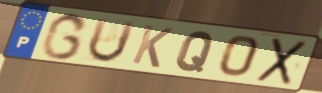0: (215, 34, 262, 79)
G: (39, 12, 91, 61)
K: (129, 23, 176, 70)
Q: (174, 30, 217, 74)
U: (85, 16, 138, 65)
X: (253, 36, 310, 87)
